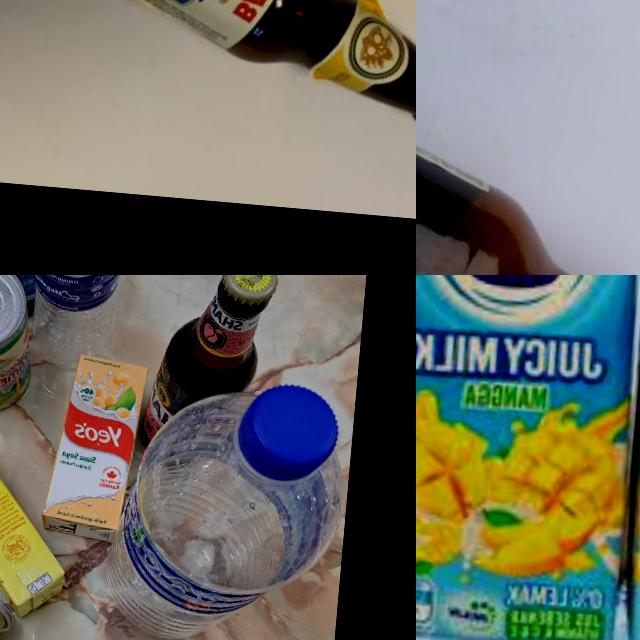caixinha: (416, 275, 640, 640), (34, 349, 148, 550), (0, 417, 74, 614)
garrafa de vidro: (0, 0, 416, 135), (416, 41, 640, 275), (134, 275, 270, 465)
garrafa plástica: (106, 388, 350, 640), (22, 275, 128, 384)
lata: (0, 275, 38, 413)
tampa plástica: (237, 381, 337, 480)
